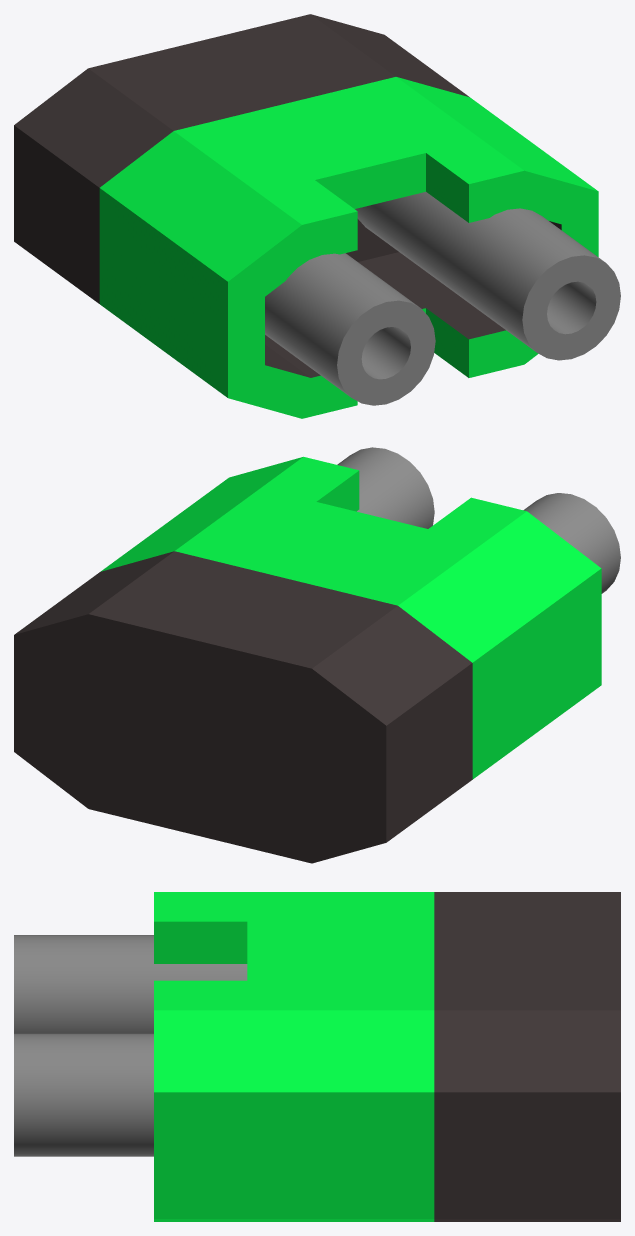
The model's file is piping_energy_end.fbx.
The picture shows the model from 3 angles, top to bottom: view 1: azimuth 30°, elevation 25°; view 2: azimuth 150°, elevation 25°; view 3: azimuth 270°, elevation 25°; orthographic projection. The views are drawn at different scales.
Visible parts, largest first — view 1: mergedBlocks; view 2: mergedBlocks; view 3: mergedBlocks.
Boxes of the visible parts, x1=… form: mergedBlocks: x1=14, y1=14, x2=620, y2=418; mergedBlocks: x1=14, y1=447, x2=620, y2=863; mergedBlocks: x1=14, y1=892, x2=620, y2=1221.
Bounding box in the file's own units: 10 × 5 × 13.
